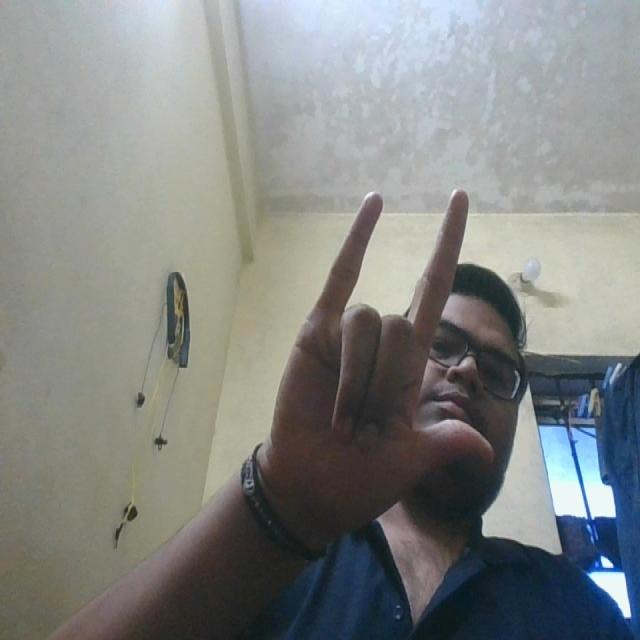iloveyou: (265, 168, 501, 519)
